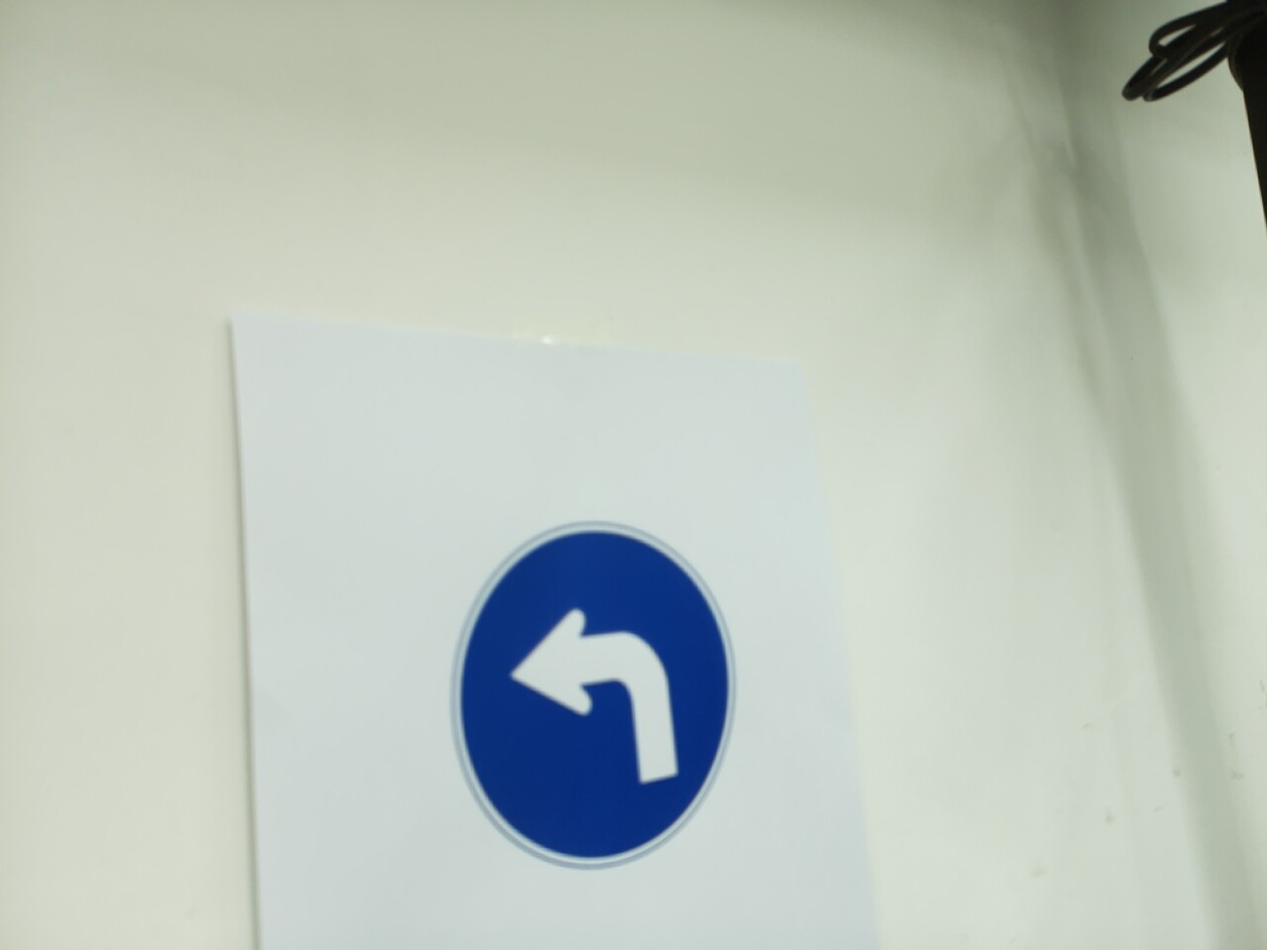left_turn: (451, 522, 737, 868)
